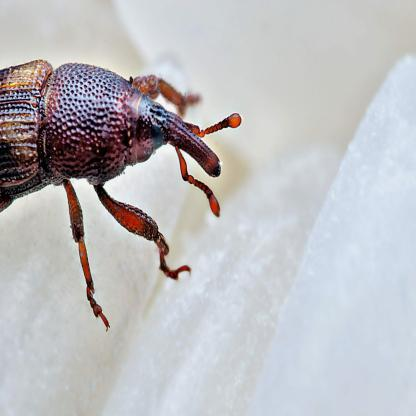rice-bug: (0, 58, 227, 278)
